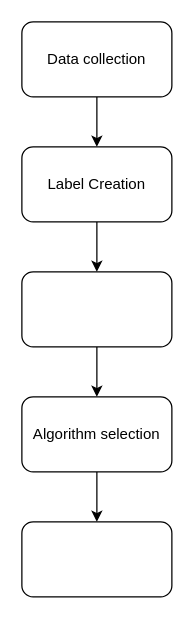
This 194x619 diagram has some shape labels left out. The shapes that lost their labels are listed below. From the top down, each one's box as (x1, y1, x2, y2) in pixels, then its label:
(21, 271, 172, 347): Feature Engineering
(21, 521, 172, 597): Performance Evaluation
